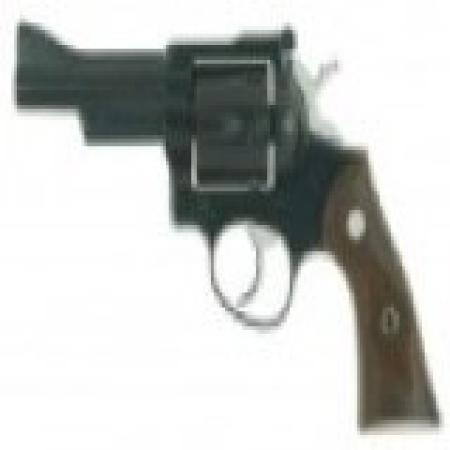Pistol: (20, 11, 442, 431)
